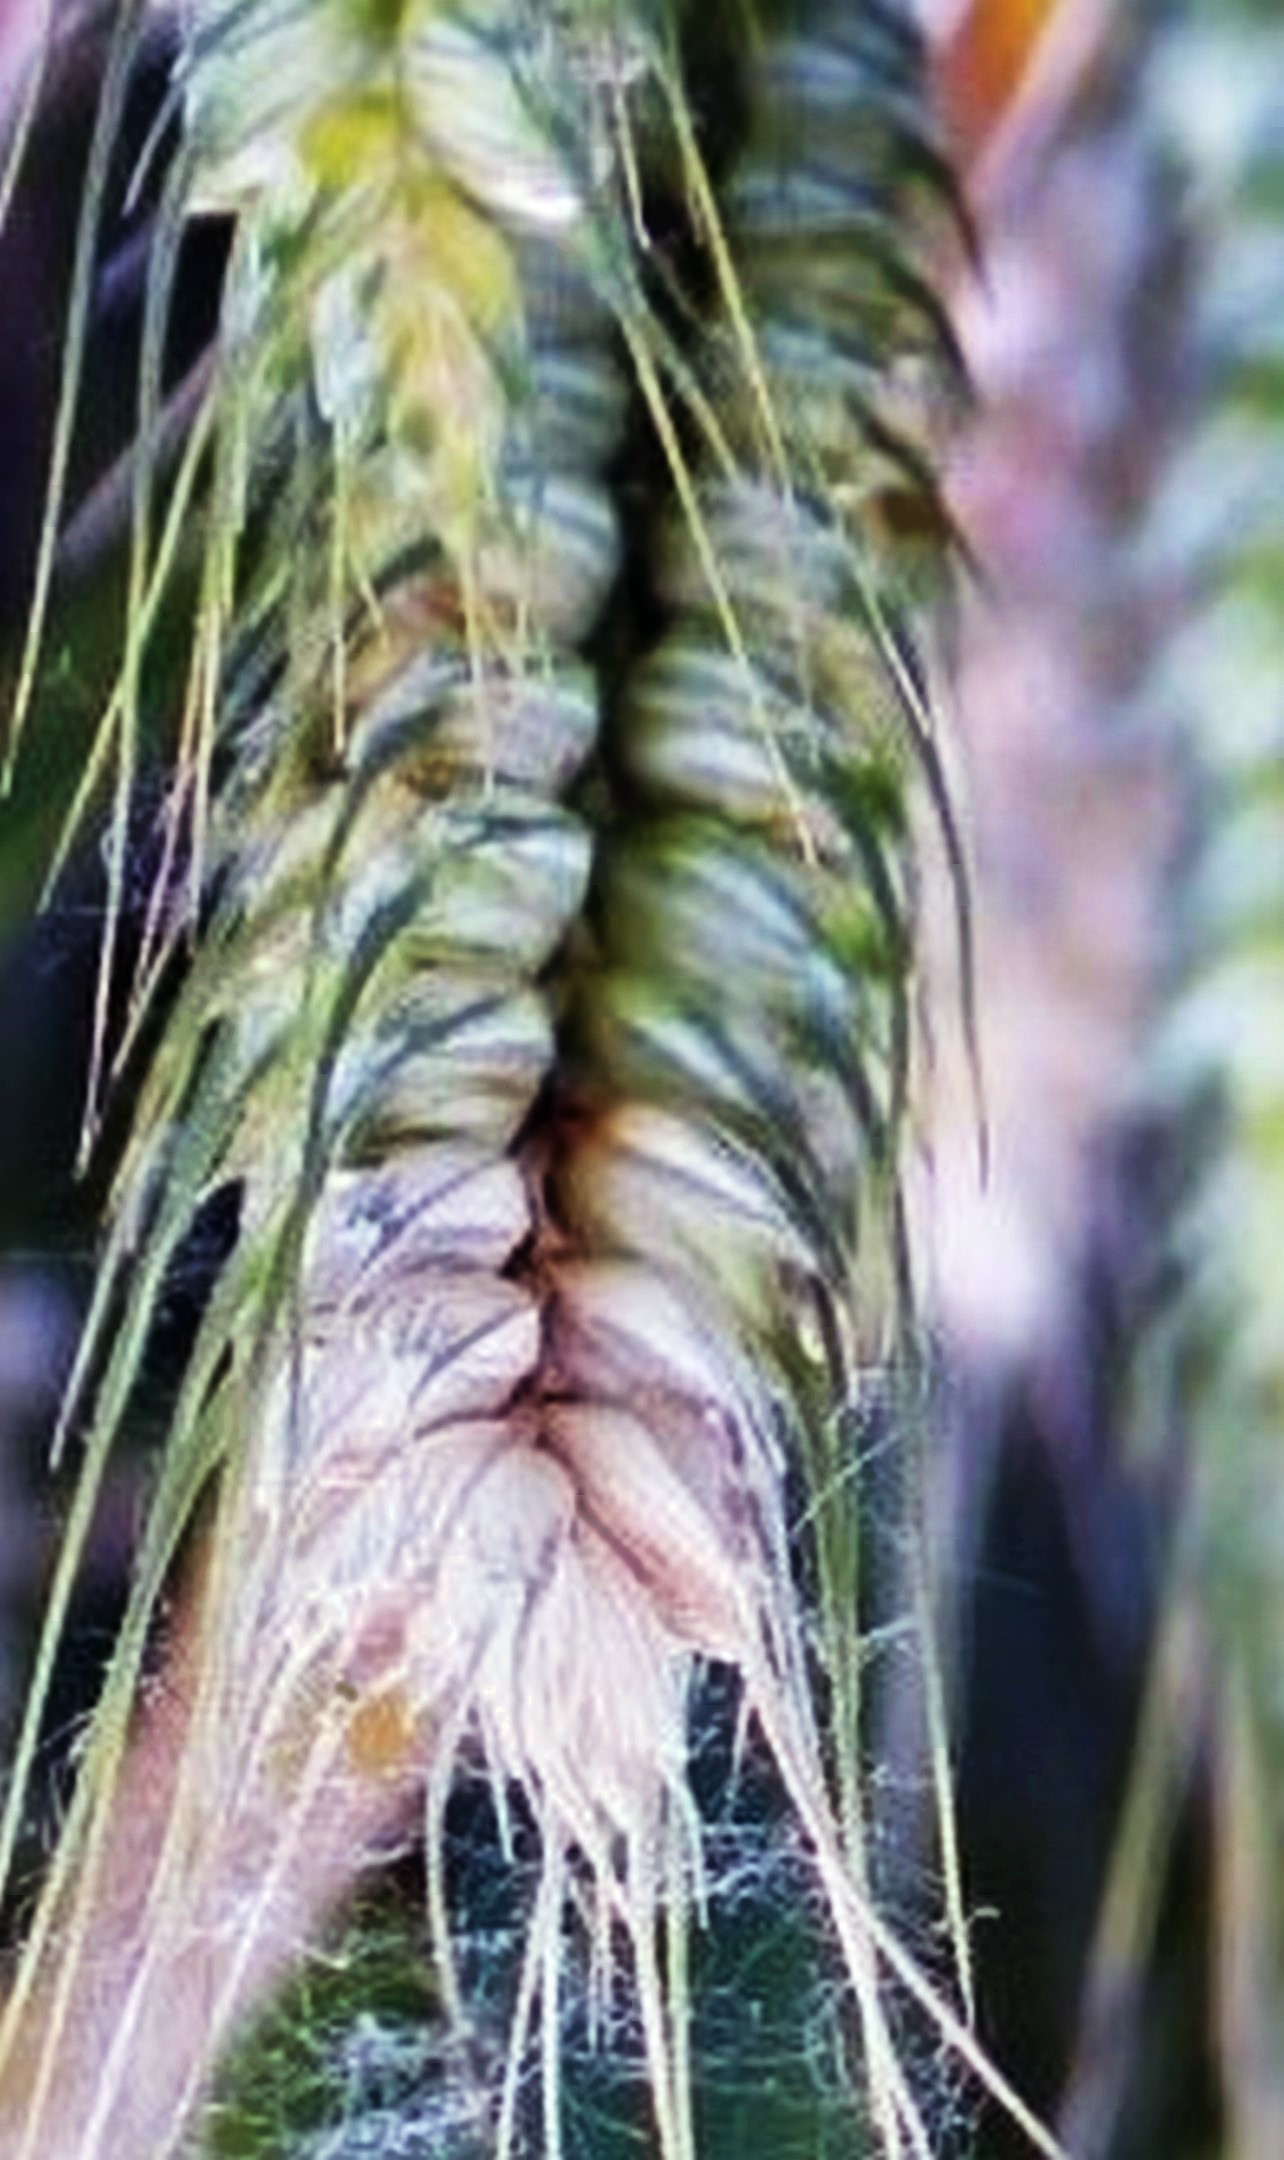Wheat scab: (96, 194, 992, 1860)
